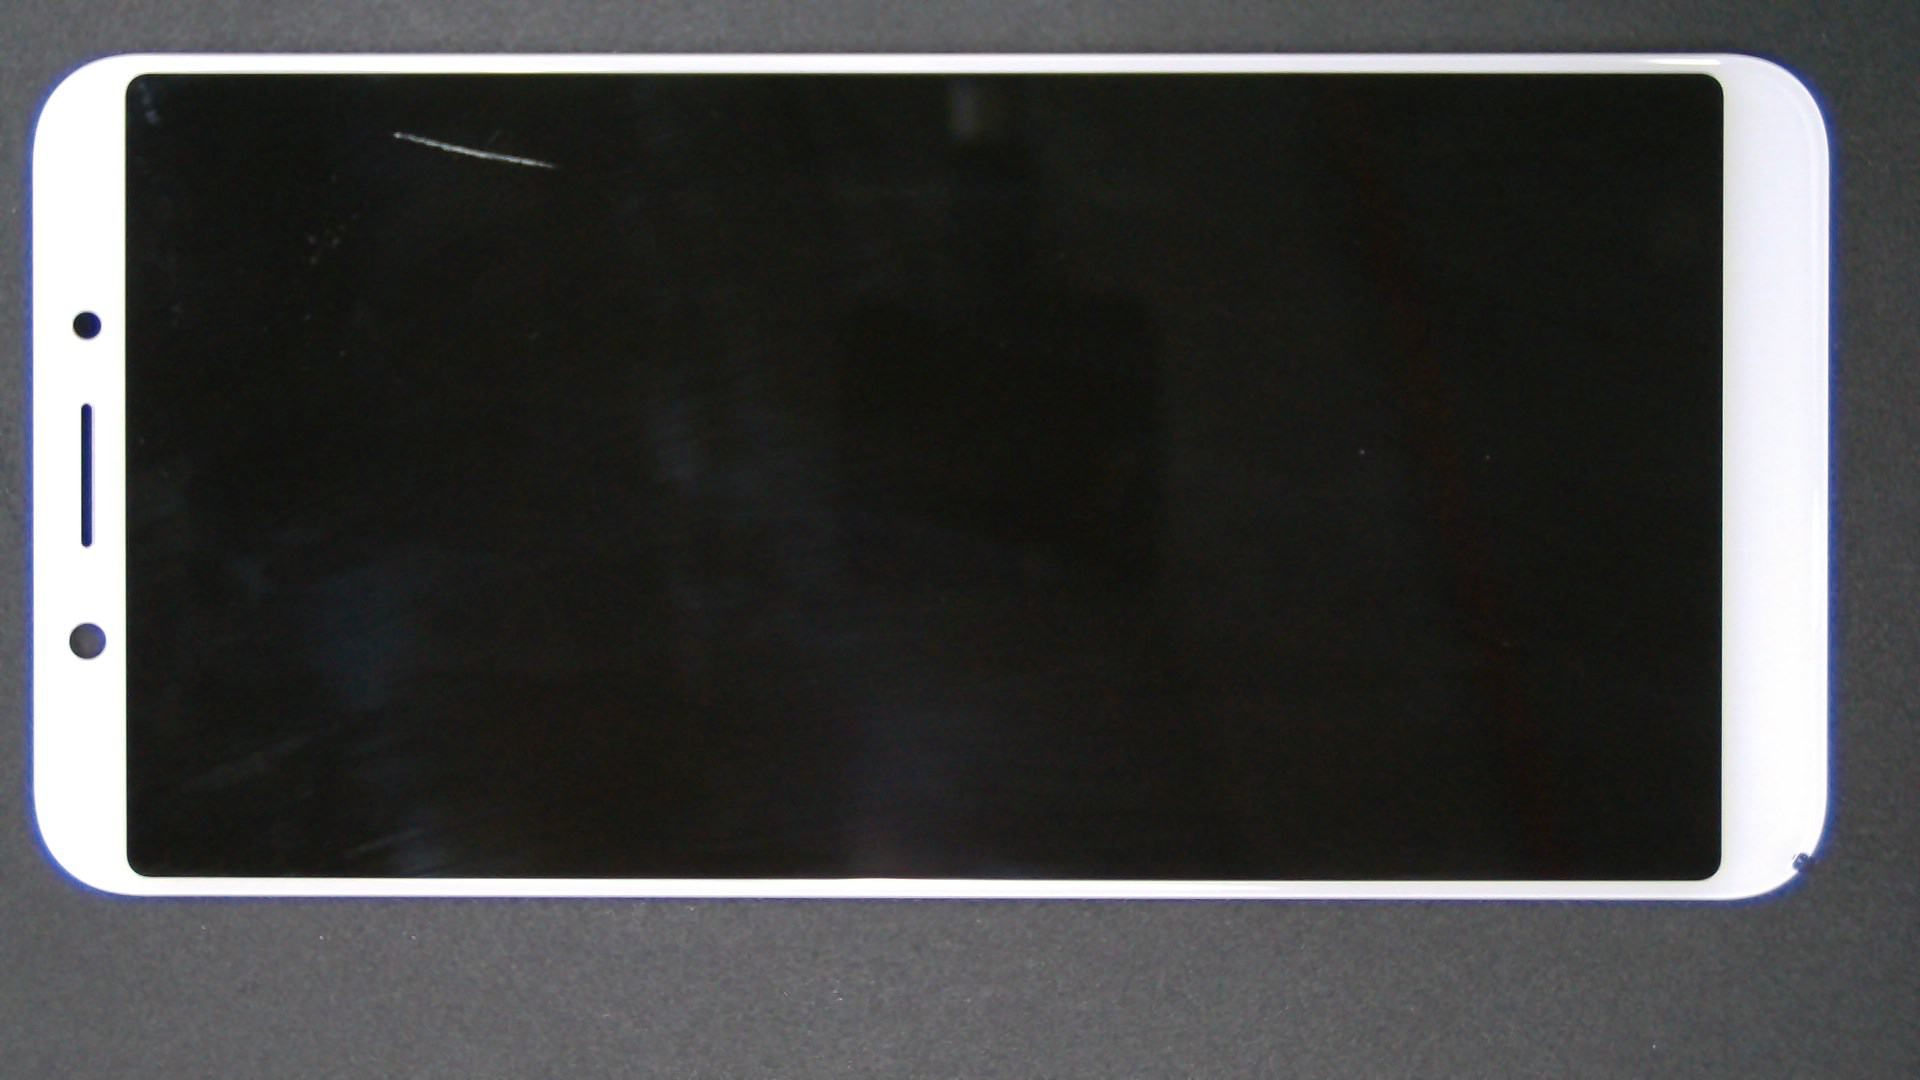defect: (392, 131, 555, 167)
